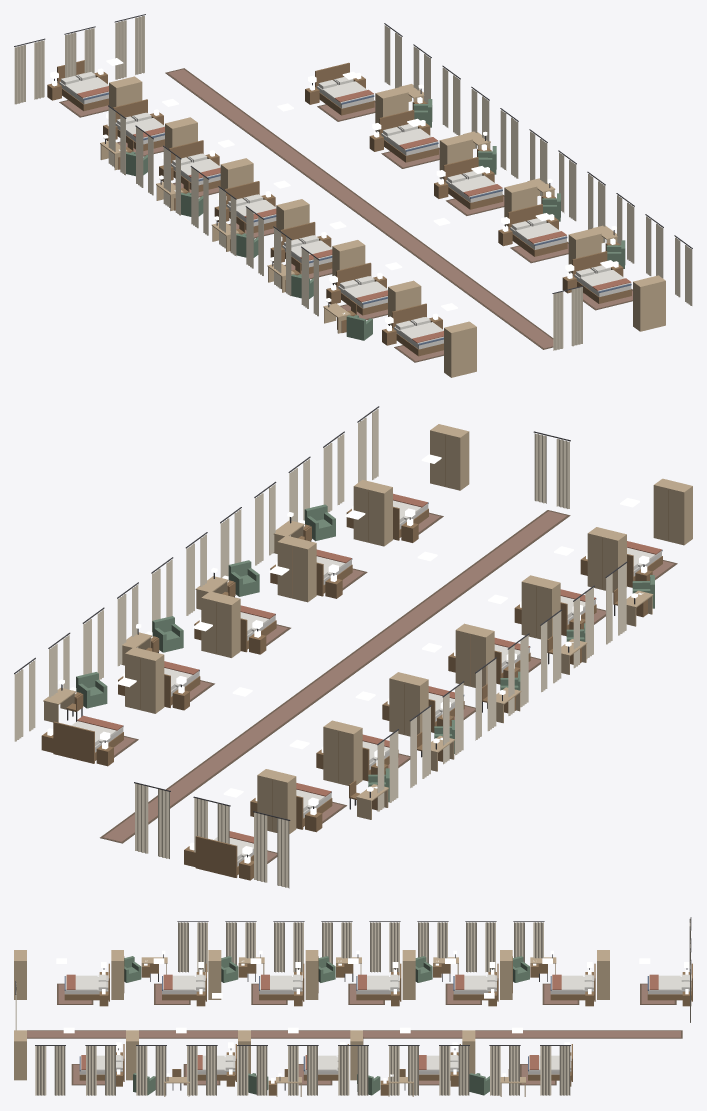
Rendered from fine-s2.glb.
The picture shows the model from 3 angles, top to bottom: view 1: azimuth 30°, elevation 25°; view 2: azimuth 150°, elevation 25°; view 3: azimuth 270°, elevation 25°; orthographic projection. The views are drawn at different scales.
Parts seen in each view (by area): view 1: soft-s2, dresser.016, dresser.023, bed-frame.014, bed-frame.013, bed-frame.012, bed-frame.015, bed-frame.016, bed-frame.023, bed-frame.022, dresser.013, dresser.015 (+14 smaller); view 2: soft-s2, dresser.023, dresser.018, dresser.013, dresser.016, dresser.012, dresser.014, dresser.015, dresser.019, dresser.022, dresser.020, dresser.021 (+8 smaller); view 3: soft-s2, dresser.019, dresser.020, dresser.022, dresser.016, dresser.017, dresser.018, dresser.023, dresser.021, dresser.015, bed-frame.018, bed-frame.020 (+16 smaller).
Boxes of the visible parts, left/top/right/bottom form: soft-s2: left=14, top=14, right=692, bottom=362; dresser.016: left=633, top=275, right=665, bottom=331; dresser.023: left=444, top=321, right=476, bottom=377; bed-frame.014: left=443, top=157, right=503, bottom=209; bed-frame.013: left=379, top=110, right=438, bottom=162; bed-frame.012: left=315, top=62, right=374, bottom=115; bed-frame.015: left=508, top=204, right=567, bottom=256; bed-frame.016: left=572, top=251, right=631, bottom=303; bed-frame.023: left=392, top=303, right=443, bottom=356; bed-frame.022: left=336, top=262, right=387, bottom=315; dresser.013: left=439, top=134, right=472, bottom=178; dresser.015: left=568, top=228, right=601, bottom=273; soft-s2: left=14, top=406, right=677, bottom=888; dresser.023: left=653, top=478, right=692, bottom=545; dresser.018: left=323, top=720, right=362, bottom=785; dresser.013: left=201, top=591, right=240, bottom=657; dresser.016: left=430, top=424, right=469, bottom=490; dresser.012: left=125, top=647, right=164, bottom=713; dresser.014: left=277, top=535, right=316, bottom=602; dresser.015: left=353, top=479, right=392, bottom=546; dresser.019: left=389, top=672, right=428, bottom=736; dresser.022: left=587, top=527, right=626, bottom=592; dresser.020: left=455, top=623, right=494, bottom=687; dresser.021: left=521, top=575, right=560, bottom=639; soft-s2: left=15, top=917, right=691, bottom=1095; dresser.019: left=402, top=950, right=415, bottom=999; dresser.020: left=305, top=950, right=318, bottom=999; dresser.022: left=111, top=950, right=124, bottom=999; dresser.016: left=14, top=1030, right=26, bottom=1080; dresser.017: left=597, top=950, right=609, bottom=999; dresser.018: left=500, top=950, right=512, bottom=999; dresser.023: left=14, top=950, right=26, bottom=999; dresser.021: left=208, top=950, right=221, bottom=999; dresser.015: left=126, top=1030, right=138, bottom=1080; bed-frame.018: left=550, top=963, right=595, bottom=1001; bed-frame.020: left=356, top=963, right=401, bottom=1001.
Size of the model in its own units: 14.16 by 2.64 by 31.55.
